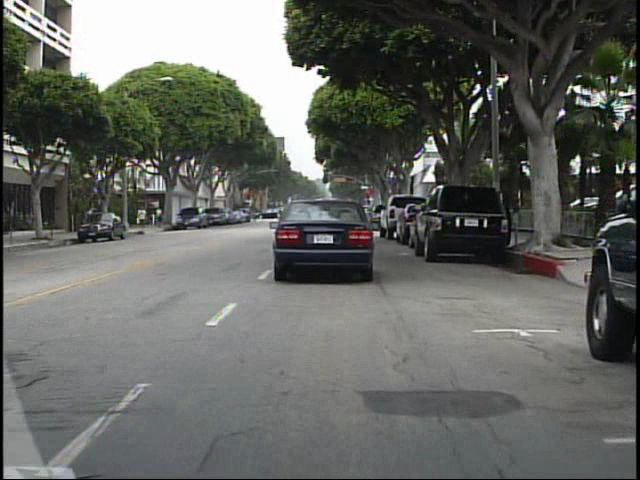person: (136, 203, 151, 232), (155, 202, 168, 229)
